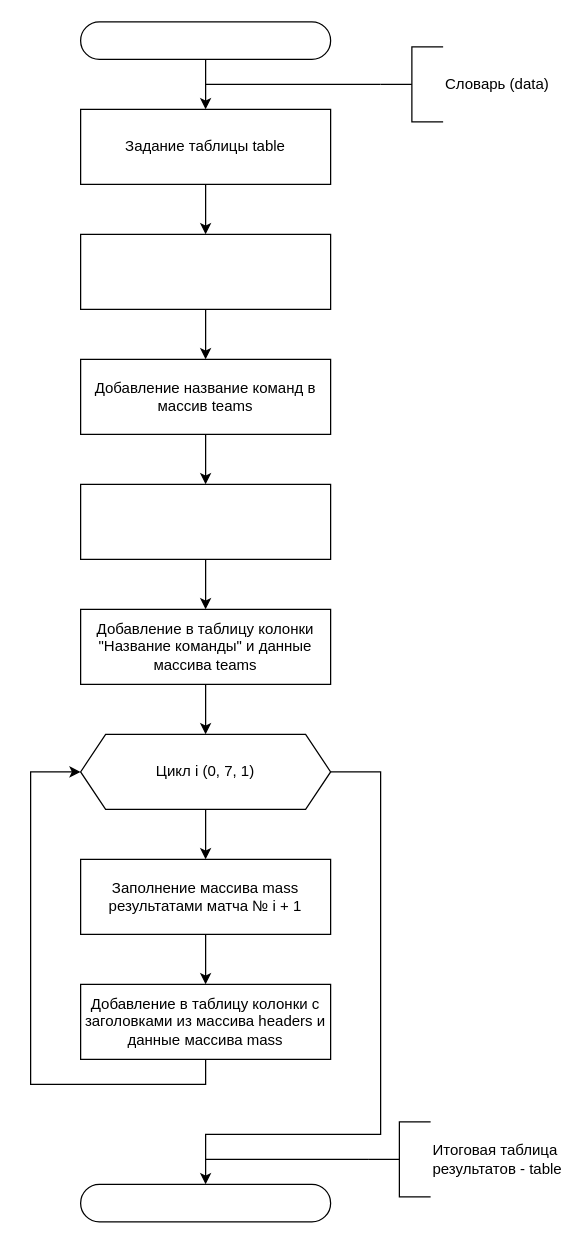
This 584x1244 diagram has some shape labels left out. Each missing label, with the centre of its shape:
"Вход" goes at point (205, 40).
"Выход" goes at point (205, 1202).
"Добавление данных о матчах в массив matches" goes at point (205, 521).
"Задание заголовков таблицы в массиве headers" goes at point (205, 271).
